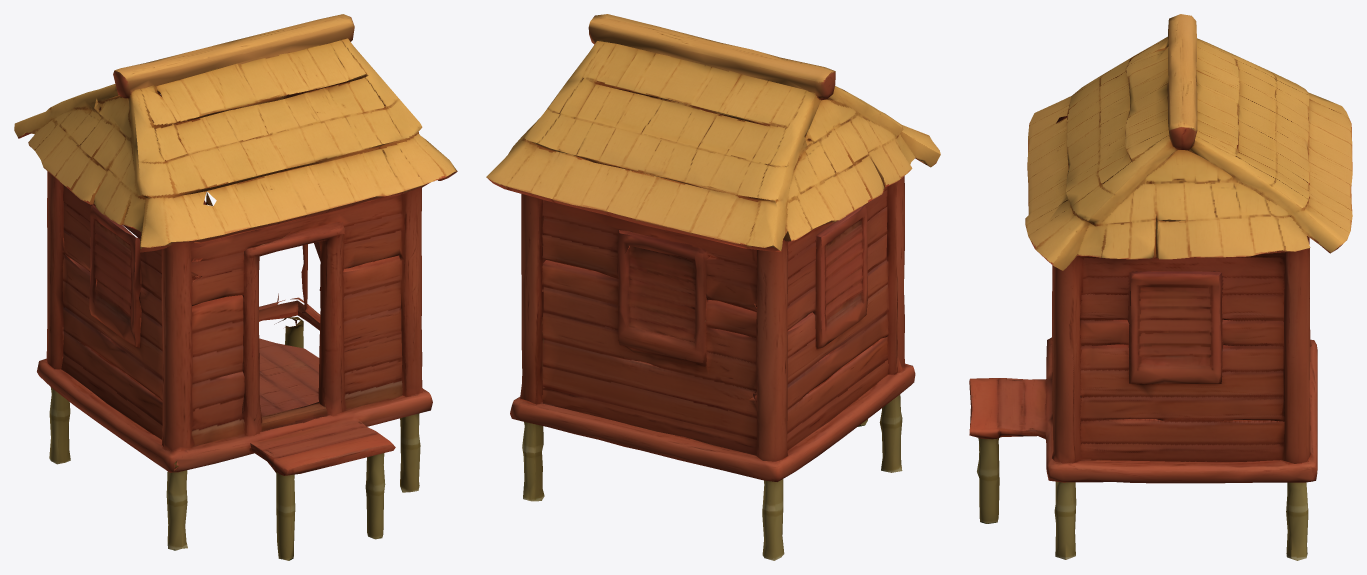
The model's file is cabana.glb.
3 renders of one model, left to right at view 1: azimuth 30°, elevation 25°; view 2: azimuth 150°, elevation 25°; view 3: azimuth 270°, elevation 25°, orthographic. The views are drawn at different scales.
Visible parts, largest first — view 1: world; view 2: world; view 3: world.
Part boxes in pixels (x1,y1,x2,y2): world: (14, 14, 457, 560); world: (486, 14, 940, 560); world: (969, 14, 1352, 560).
Bounding box in the file's own units: 0.7786 × 1 × 0.8083.
Materials: 1 (1 with a texture image).
